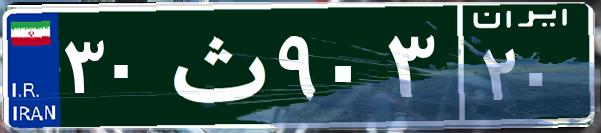0: (330, 28, 385, 110), (110, 28, 158, 105), (525, 38, 570, 115)
2: (475, 38, 525, 113)
3: (385, 28, 445, 110), (57, 26, 110, 107)
9: (273, 28, 330, 110)
ث: (158, 15, 273, 115)
